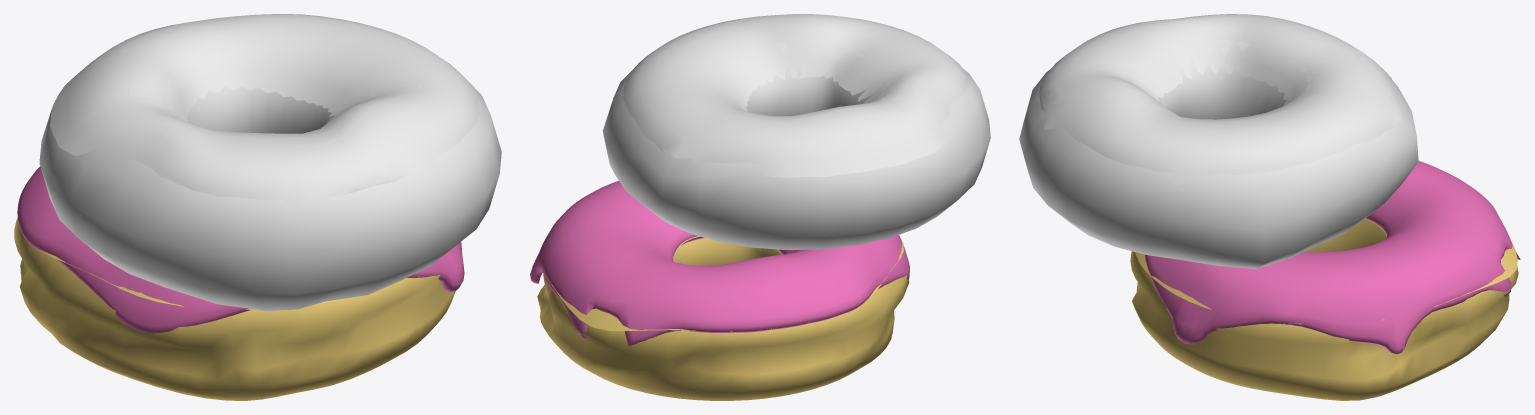
File: donut.glb
The picture shows the model from 3 angles, left to right: view 1: azimuth 30°, elevation 25°; view 2: azimuth 150°, elevation 25°; view 3: azimuth 270°, elevation 25°; orthographic projection. The views are drawn at different scales.
Visible parts, largest first — view 1: icing original, Donut original, Donut original.001, icing original.001; view 2: icing original, Donut original, icing original.001, Donut original.001; view 3: icing original, Donut original, icing original.001, Donut original.001.
Part boxes in pixels (<box>): icing original: <box>50,14,480,204</box>; Donut original: <box>39,20,501,310</box>; Donut original.001: <box>14,218,455,400</box>; icing original.001: <box>17,166,464,333</box>; icing original: <box>623,14,969,177</box>; Donut original: <box>602,21,990,249</box>; icing original.001: <box>530,181,909,346</box>; Donut original.001: <box>537,236,909,400</box>; icing original: <box>1039,14,1401,186</box>; Donut original: <box>1019,19,1418,268</box>; icing original.001: <box>1144,161,1520,354</box>; Donut original.001: <box>1130,218,1518,400</box>.
Size of what is drawn, in the model's own units: 0.1609 by 0.1093 by 0.1929.
